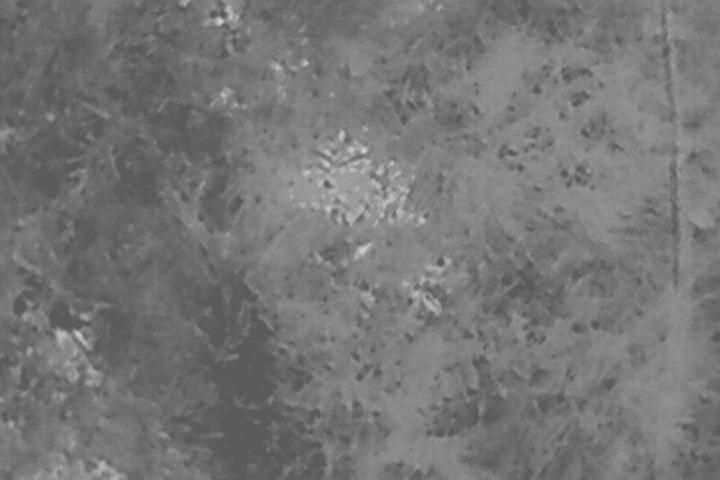landmine: (289, 134, 409, 238)
